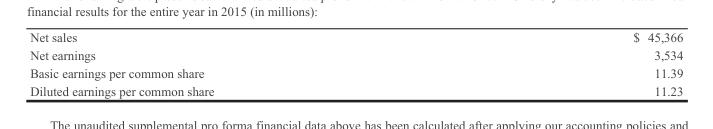table: (29, 29, 682, 97)
table column: (29, 29, 423, 97), (423, 29, 682, 97)
table row: (29, 45, 682, 63), (29, 63, 682, 81), (29, 29, 682, 45), (29, 81, 682, 97)
